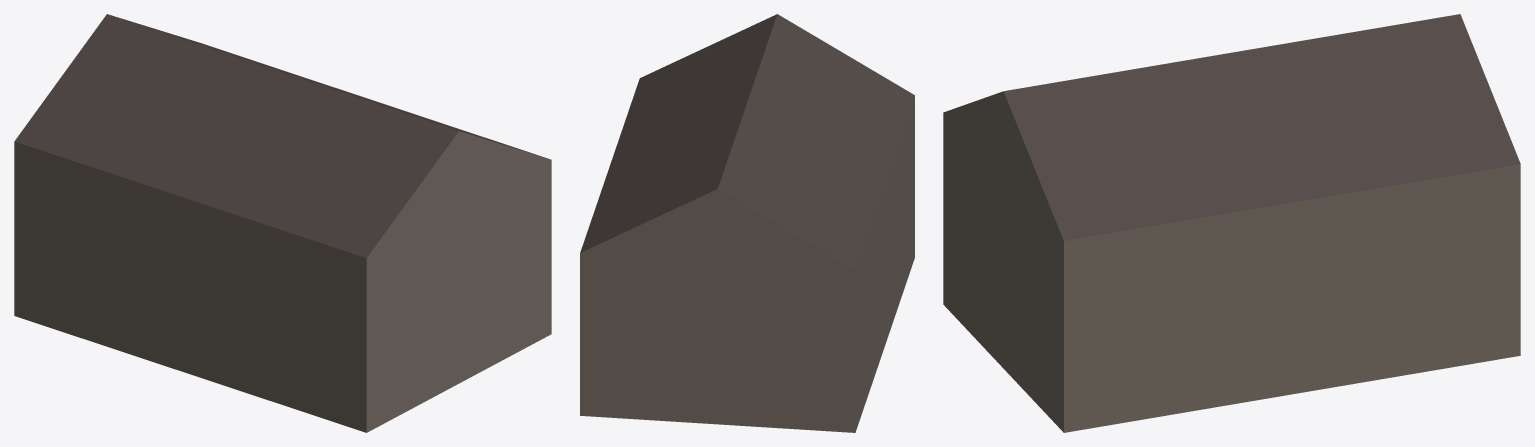
3 renders of one model, left to right at view 1: azimuth 30°, elevation 25°; view 2: azimuth 150°, elevation 25°; view 3: azimuth 270°, elevation 25°, orthographic. The views are drawn at different scales.
Visible parts, largest first — view 1: HP-w369317484; view 2: HP-w369317484; view 3: HP-w369317484.
Part boxes in pixels (x1=…): HP-w369317484: x1=14, y1=14, x2=551, y2=432; HP-w369317484: x1=580, y1=14, x2=914, y2=432; HP-w369317484: x1=943, y1=14, x2=1520, y2=432.
Bounding box in the file's own units: 13.83 × 8.68 × 16.39.
